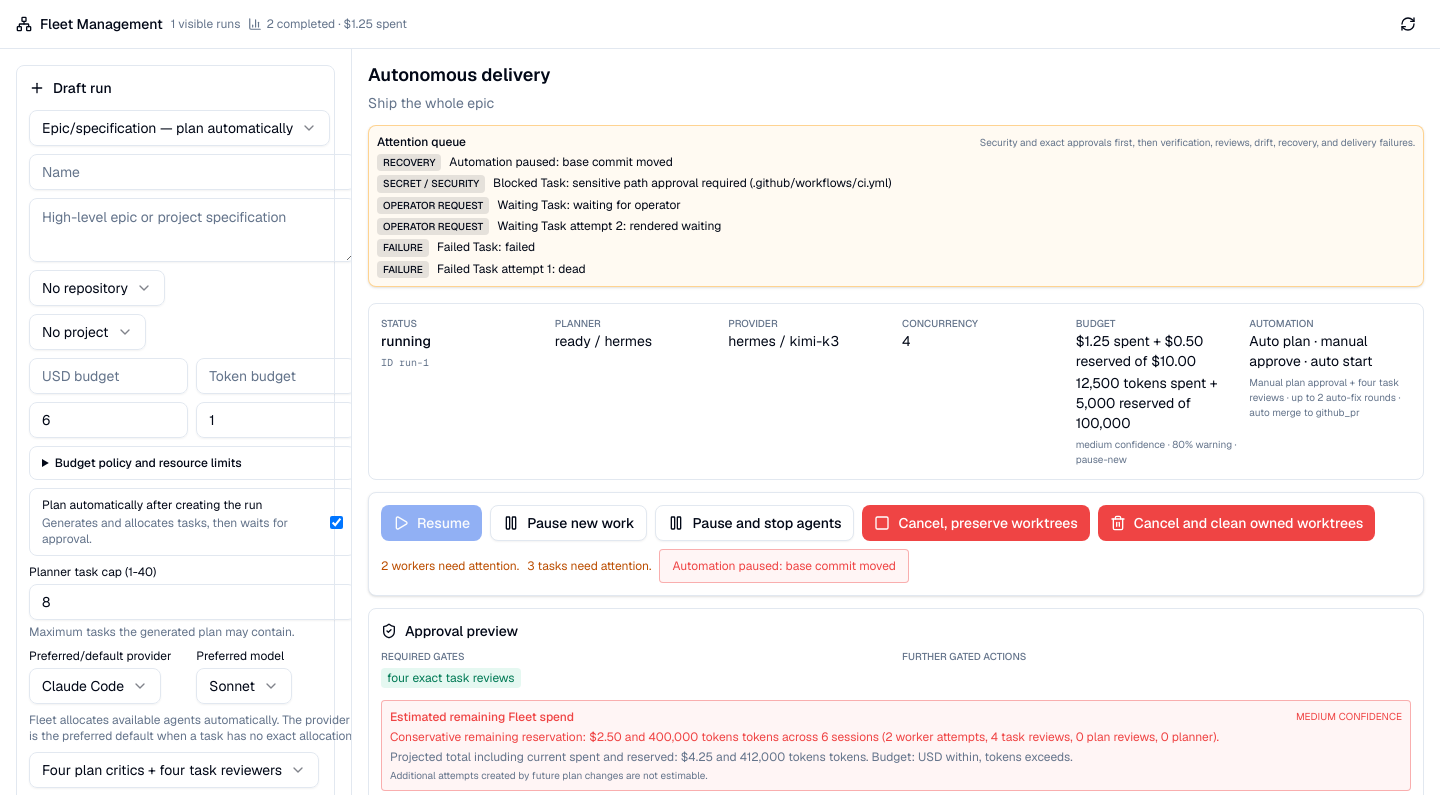
Test case: FleetManagementView status drilldowns › shows the exact configured base branch for a selected repository
The width and height of the screenshot is (1440, 795).
Click the dropdown labelled "repository" at (97, 288), box [29, 270, 165, 306]
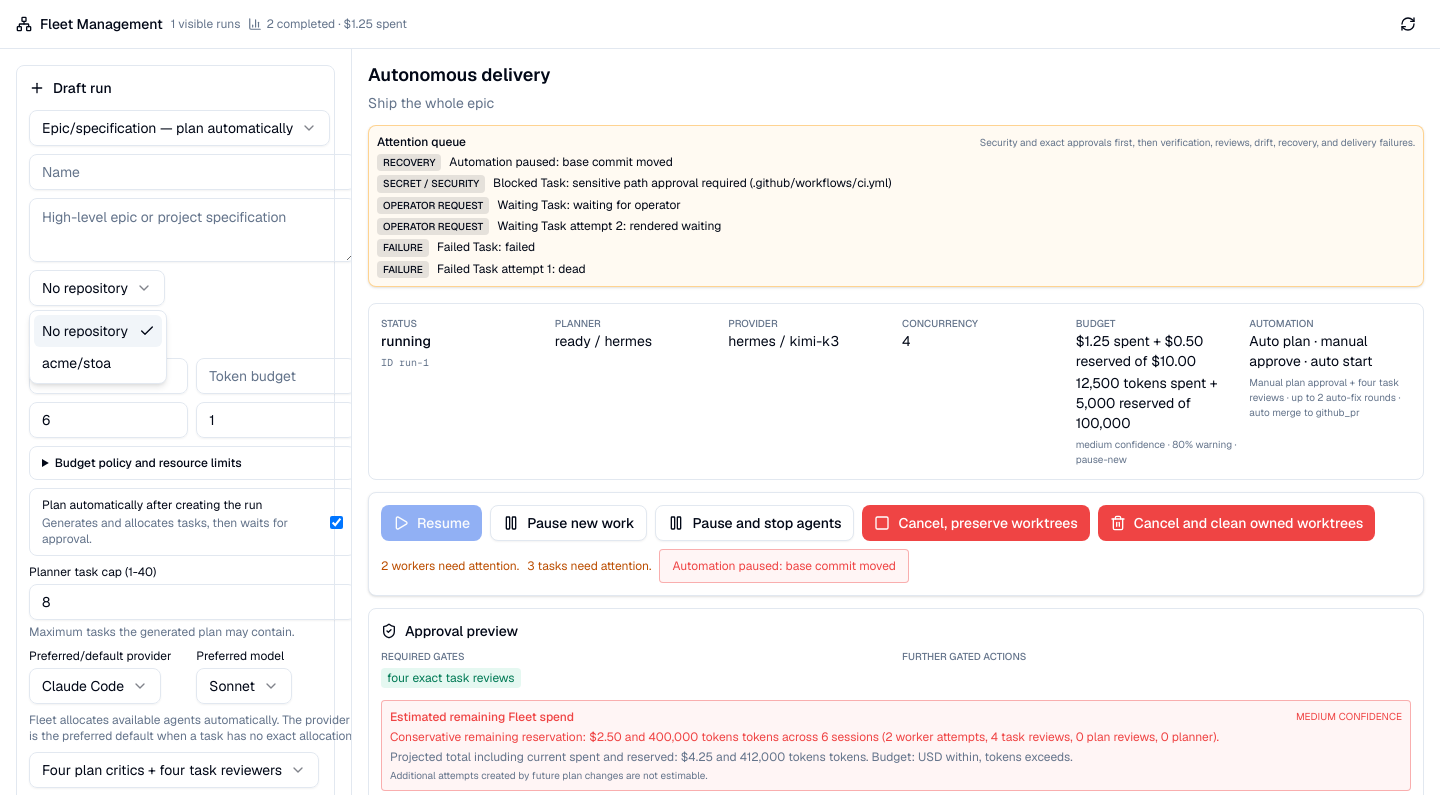
Click the option "acme/stoa" at (76, 363), box [42, 354, 111, 372]
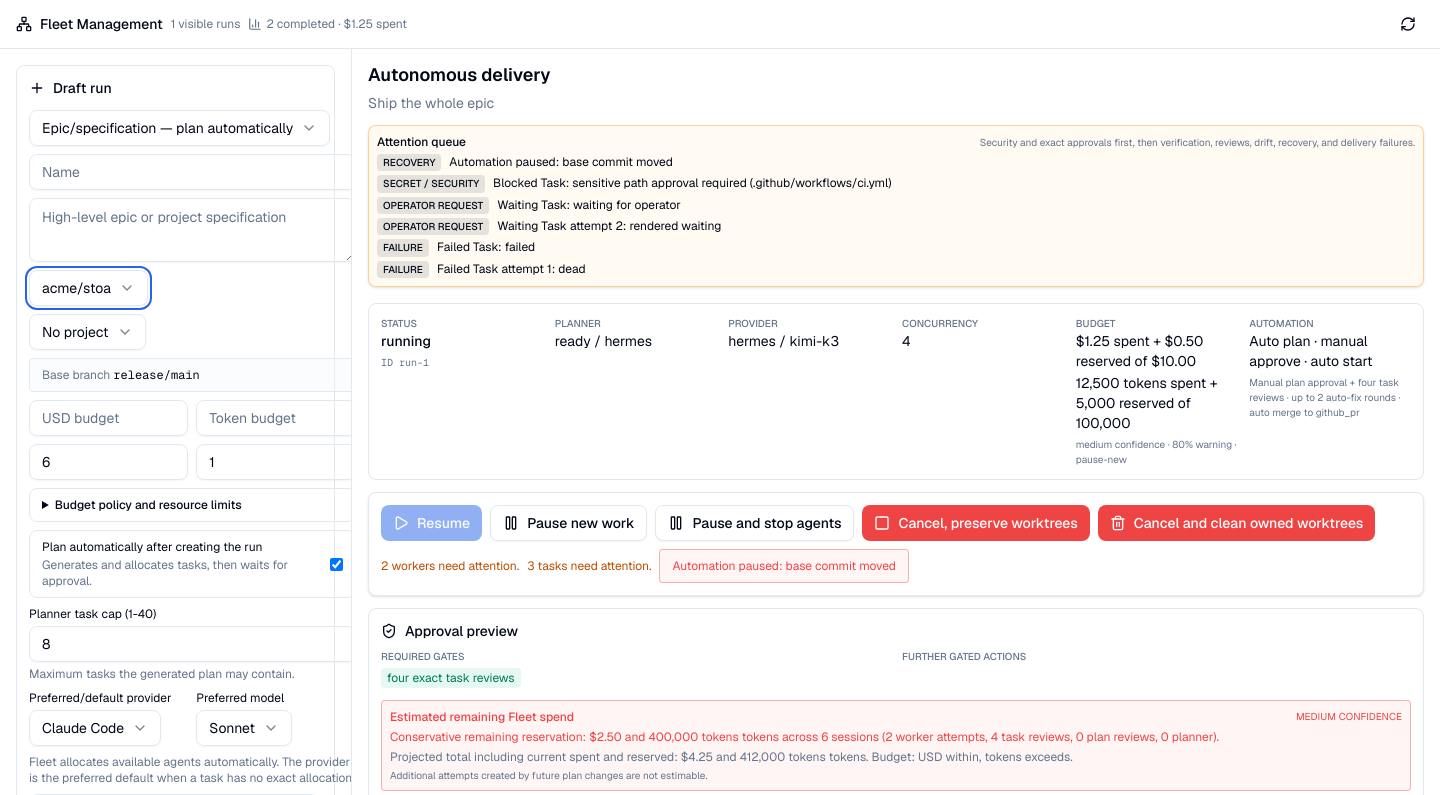
expect the element named "Fleet base branch" shows "release/main": met, box [113, 367, 200, 383]
